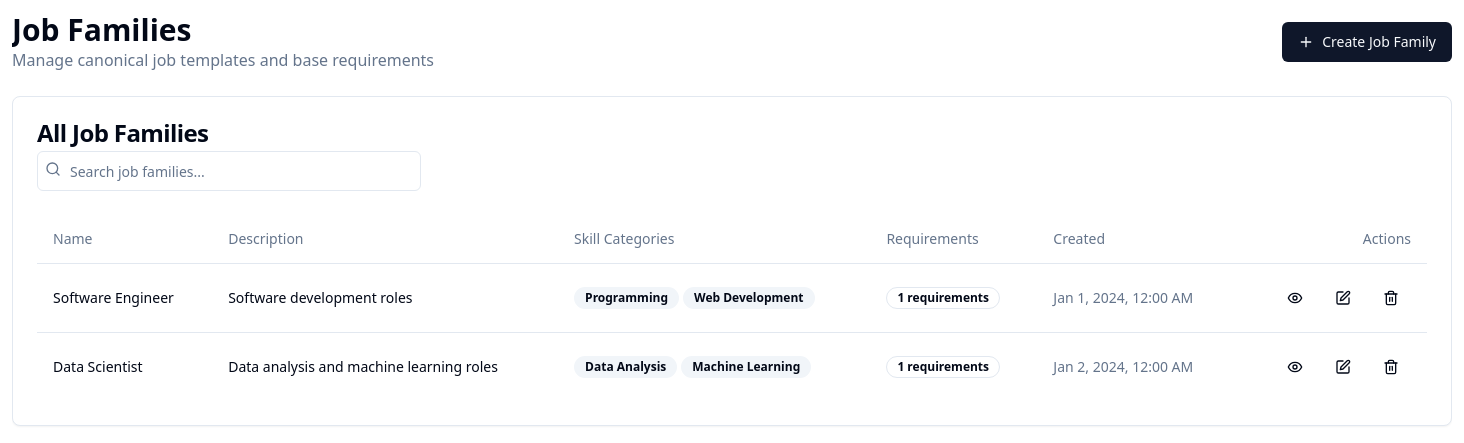
Test case: JobFamilyList › filters job families by search term
Type "Software" into the field with placeholder "Search job families...".
click(229, 171); type("Software")  # box [37,151,421,191]
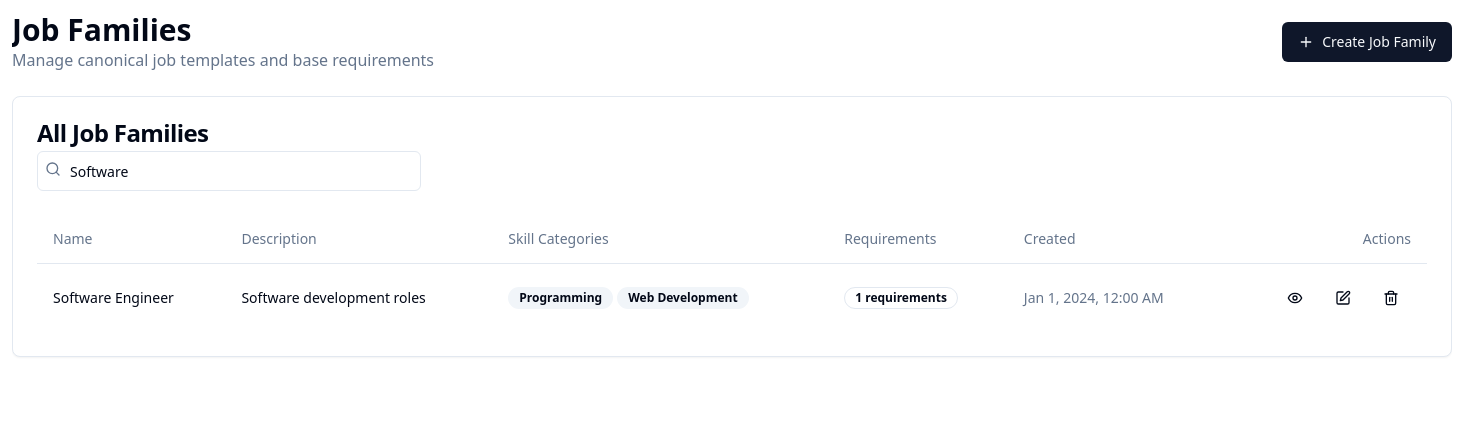
Expected: the text "Software Engineer" is shown, [37,263,225,332]
Now the text "Data Scientist" is gone
